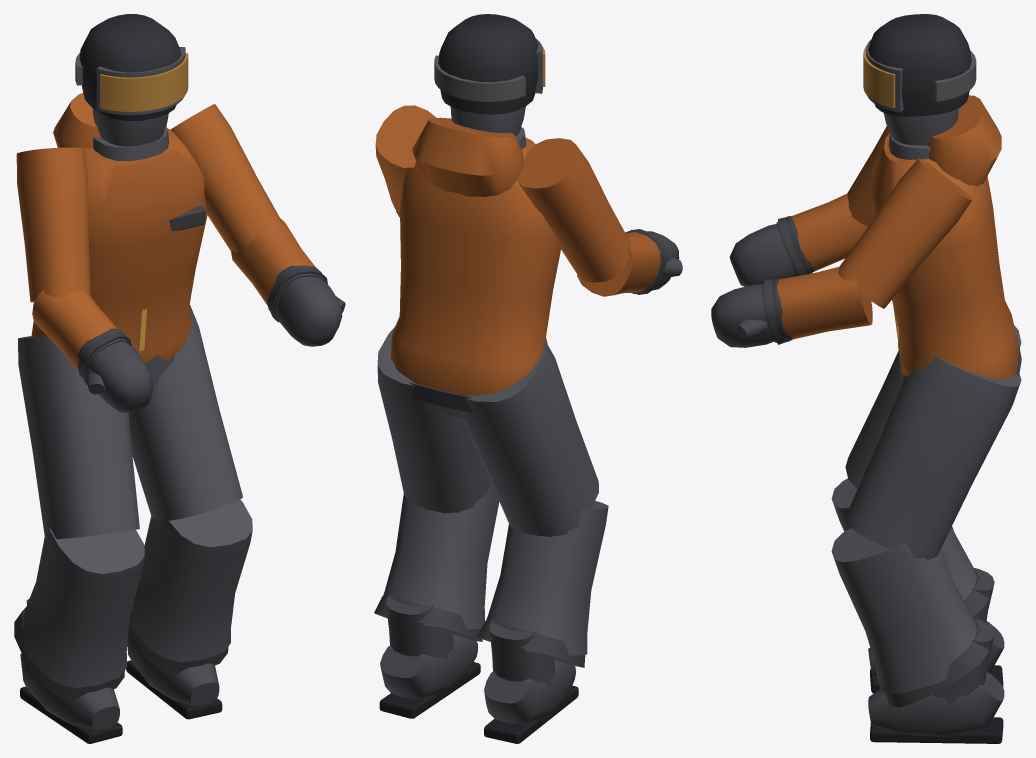
File: RiderSki.fbx
The picture shows the model from 3 angles, left to right: view 1: azimuth 30°, elevation 25°; view 2: azimuth 150°, elevation 25°; view 3: azimuth 270°, elevation 25°; orthographic projection.
Parts seen in each view (by area): view 1: Torso, ThighLeft, ShinLeft, ShinRight, ThighRight, Head, ArmLeft, ArmRight, HandRight, HandLeft, ForearmLeft, BootLeft (+2 smaller); view 2: Torso, ThighLeft, ShinLeft, ShinRight, Head, ThighRight, ArmLeft, BootRight, BootLeft, ArmRight, ForearmLeft, HandLeft; view 3: Torso, ThighRight, ShinRight, Head, ArmRight, BootRight, ForearmRight, ForearmLeft, HandRight, HandLeft, ThighLeft, ShinLeft (+2 smaller).
Part boxes in pixels (left/top/right/bottom): Torso: left=31, top=93, right=207, bottom=362; ThighLeft: left=18, top=336, right=139, bottom=539; ShinLeft: left=14, top=527, right=144, bottom=699; ShinRight: left=128, top=499, right=252, bottom=673; ThighRight: left=128, top=304, right=242, bottom=521; Head: left=75, top=14, right=188, bottom=146; ArmLeft: left=16, top=147, right=90, bottom=302; ArmRight: left=170, top=104, right=282, bottom=252; HandRight: left=267, top=265, right=345, bottom=346; HandLeft: left=78, top=328, right=153, bottom=412; ForearmLeft: left=32, top=290, right=130, bottom=379; BootLeft: left=20, top=598, right=122, bottom=743; Torso: left=391, top=117, right=560, bottom=412; ThighLeft: left=462, top=340, right=598, bottom=536; ShinLeft: left=477, top=501, right=608, bottom=667; ShinRight: left=374, top=484, right=499, bottom=641; Head: left=434, top=14, right=545, bottom=136; ThighRight: left=377, top=327, right=491, bottom=513; ArmLeft: left=517, top=138, right=630, bottom=282; BootRight: left=379, top=595, right=480, bottom=718; BootLeft: left=484, top=620, right=578, bottom=743; ArmRight: left=375, top=105, right=436, bottom=212; ForearmLeft: left=577, top=230, right=664, bottom=296; HandLeft: left=626, top=229, right=682, bottom=294; Torso: left=871, top=95, right=1021, bottom=379; ThighRight: left=845, top=356, right=1021, bottom=559; ShinRight: left=831, top=528, right=988, bottom=707; Head: left=863, top=14, right=976, bottom=145; ArmRight: left=838, top=158, right=971, bottom=308; BootRight: left=868, top=618, right=1004, bottom=743; ForearmRight: left=762, top=267, right=872, bottom=342; ForearmLeft: left=776, top=193, right=867, bottom=275; HandRight: left=711, top=278, right=792, bottom=347; HandLeft: left=729, top=216, right=814, bottom=286; ThighLeft: left=845, top=325, right=1021, bottom=488; ShinLeft: left=831, top=478, right=988, bottom=616.
Size of the model in its own units: 0.6759 by 1.77 by 0.7282.
